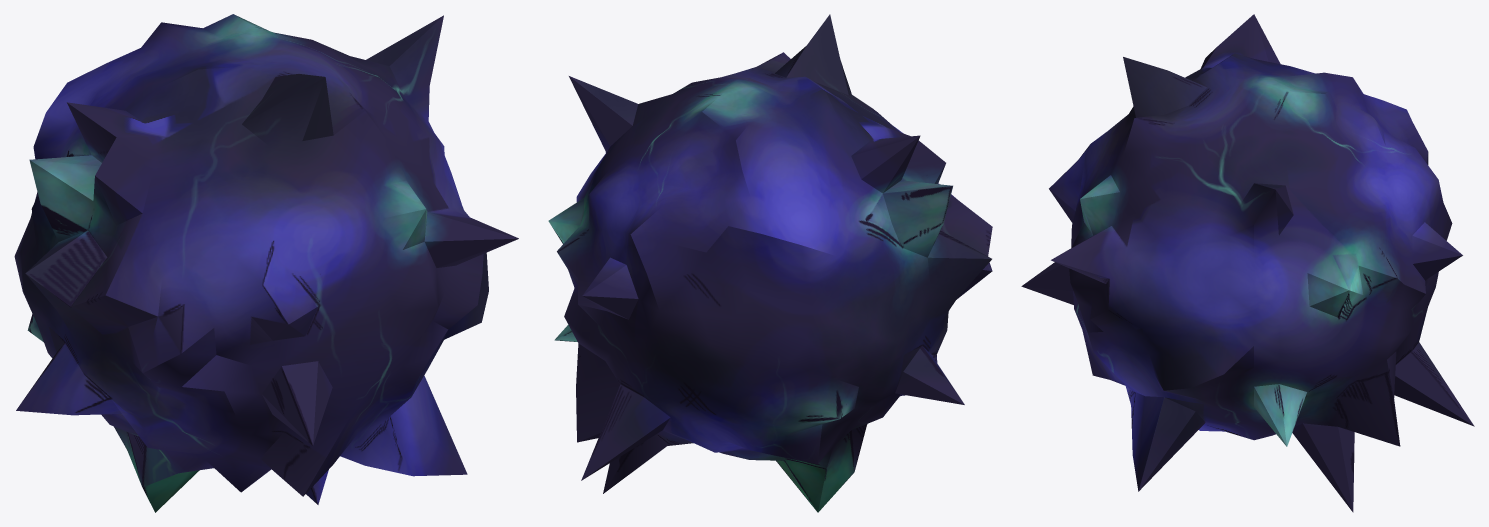
Rendered from Asteroid_crystal.gltf.
3 views of the same model, side by side, from view 1: azimuth 30°, elevation 25°; view 2: azimuth 150°, elevation 25°; view 3: azimuth 270°, elevation 25° (orthographic). The views are drawn at different scales.
Parts seen in each view (by area): view 1: asteroid_crystal; view 2: asteroid_crystal; view 3: asteroid_crystal.
Part boxes in pixels (x1=…): asteroid_crystal: x1=14, y1=14, x2=518, y2=512; asteroid_crystal: x1=548, y1=14, x2=992, y2=512; asteroid_crystal: x1=1021, y1=14, x2=1474, y2=512.
Bounding box in the file's own units: 9.82 × 9.85 × 9.89.
